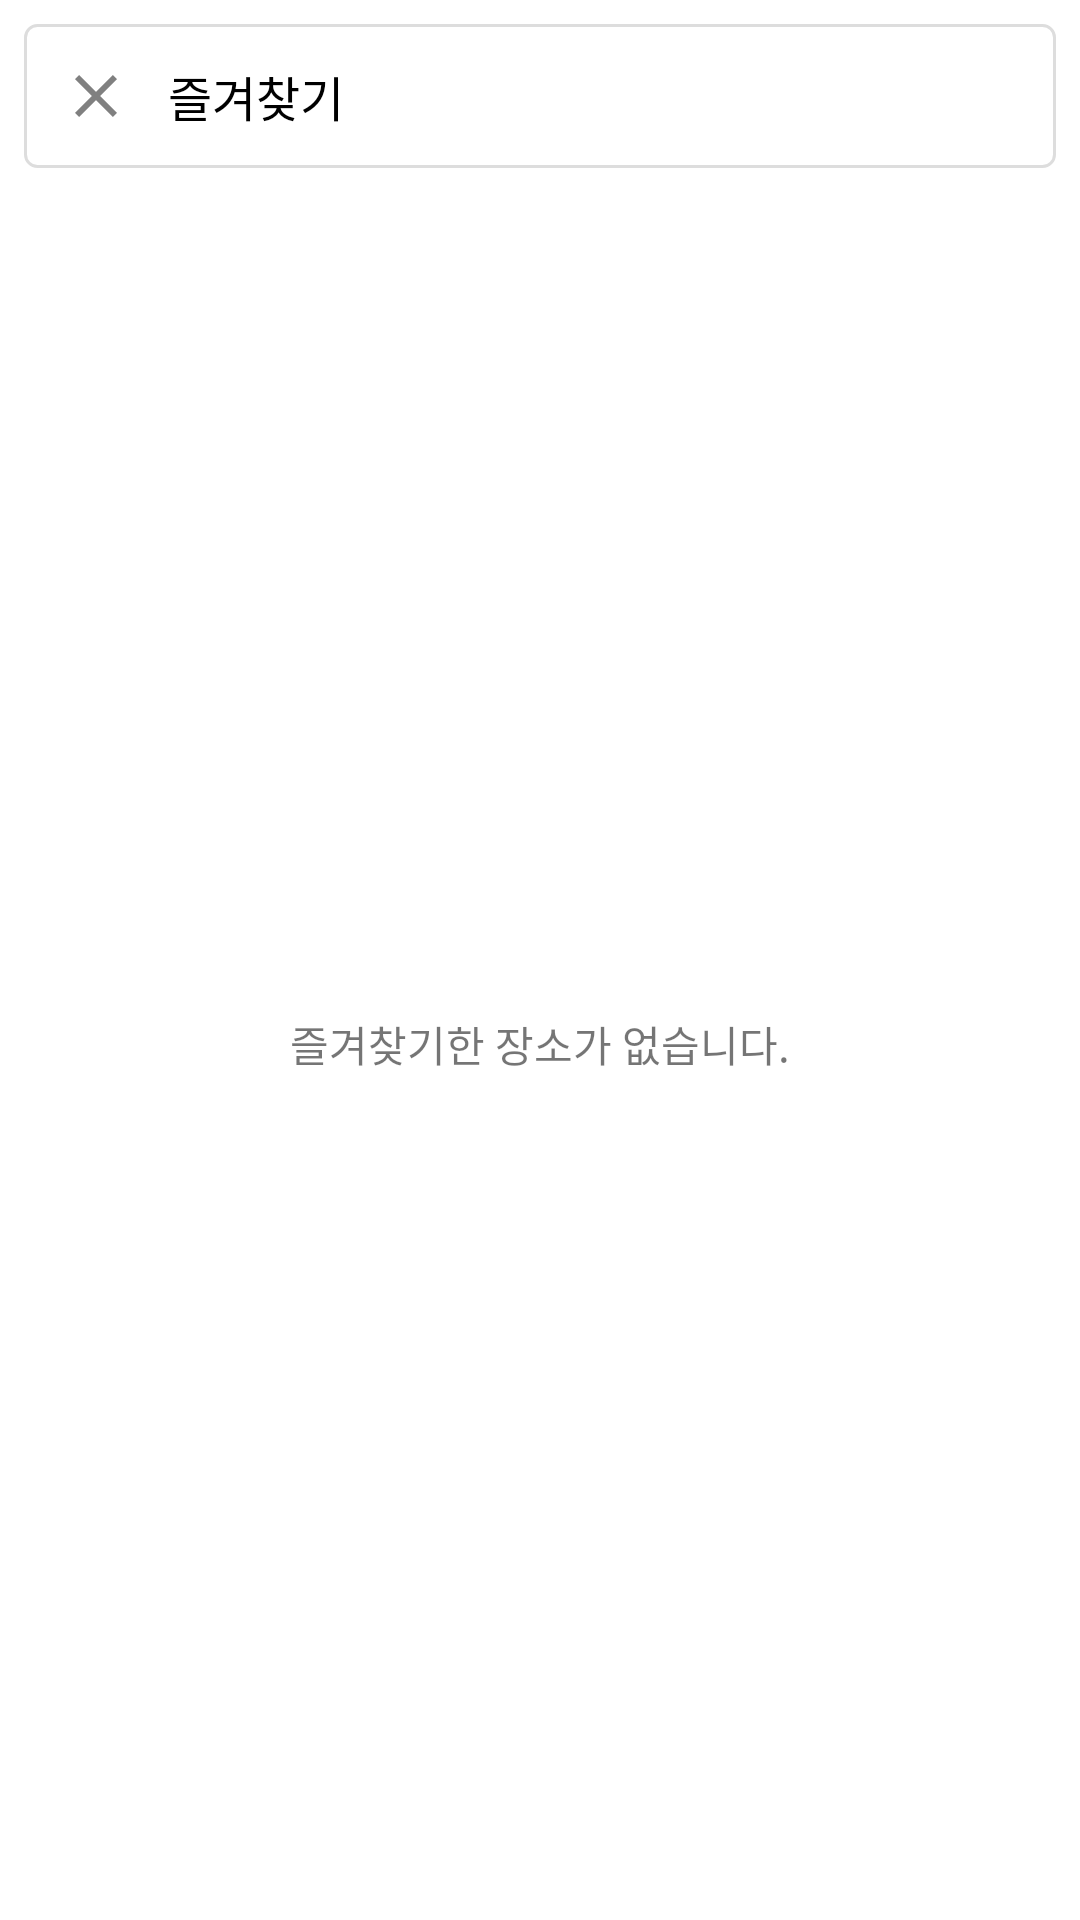

Named icons in this screenshot (1080 × 1920) and their bounding boxes, [x1, y1, x2, y2]:
close: [75, 75, 117, 117]
